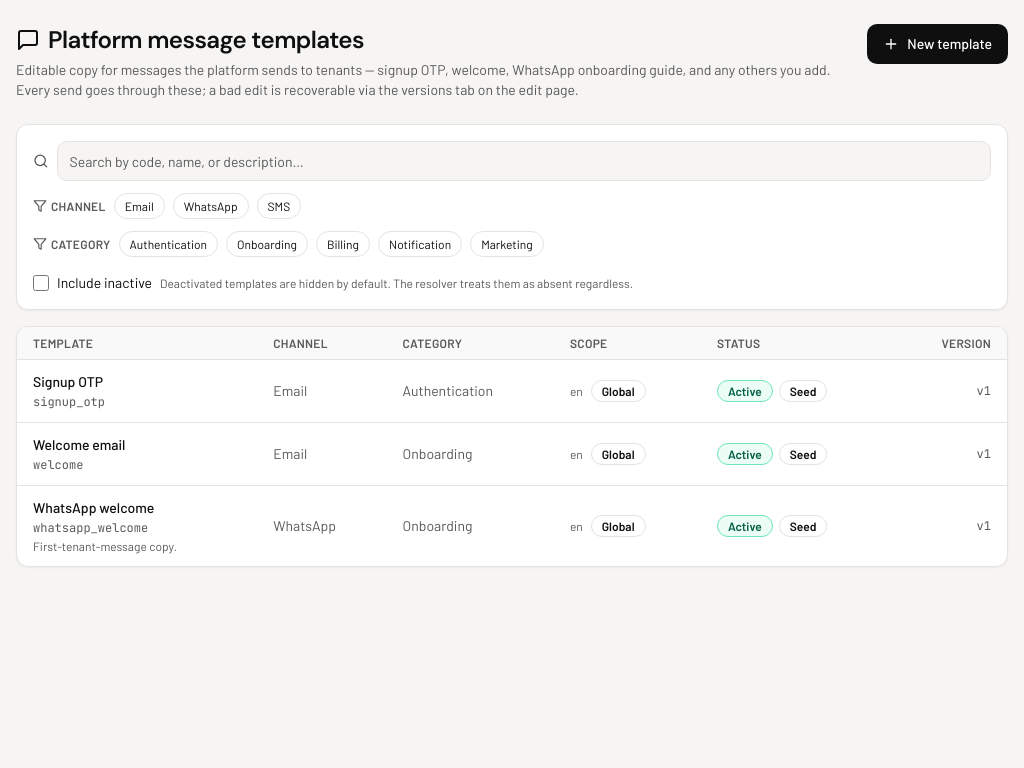
Test: includeInactive › surfaces an Inactive badge when inactive rows are in the result
Expected: the text "Signup OTP" is shown, [33, 373, 103, 390]
Step 1. Click the checkbox labelled "Include inactive" → click(41, 283), box [33, 275, 49, 291]
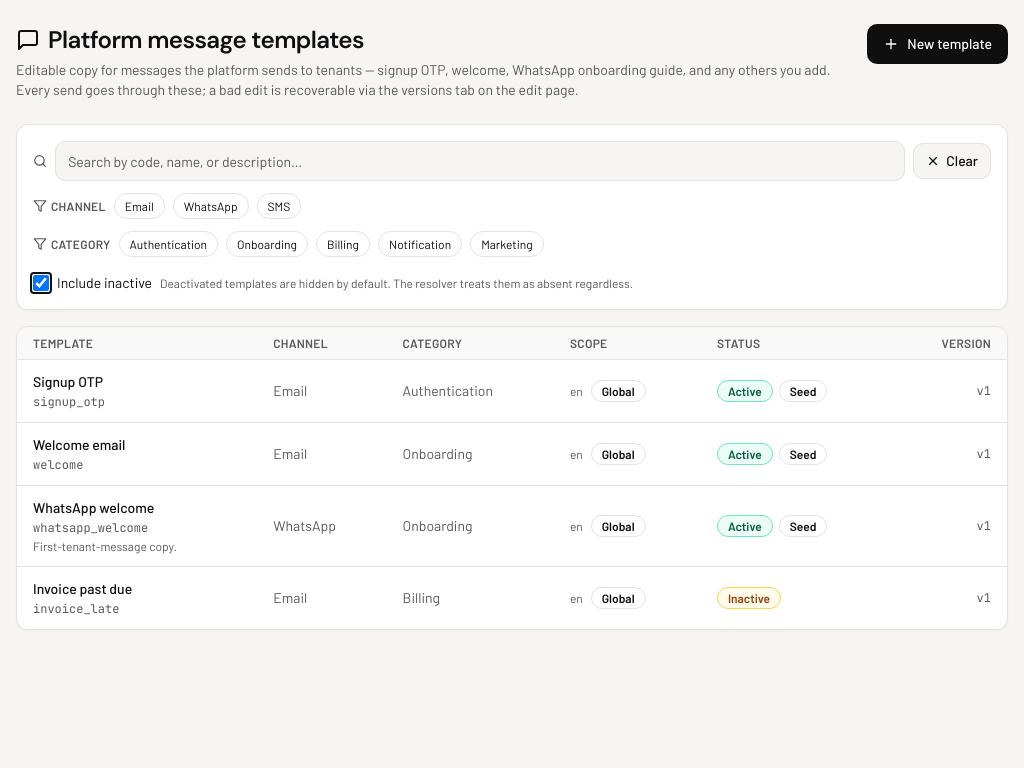
Result: the text "Invoice past due" is shown at [33, 580, 132, 597]
Result: the text "Inactive" is shown at [717, 587, 781, 609]
